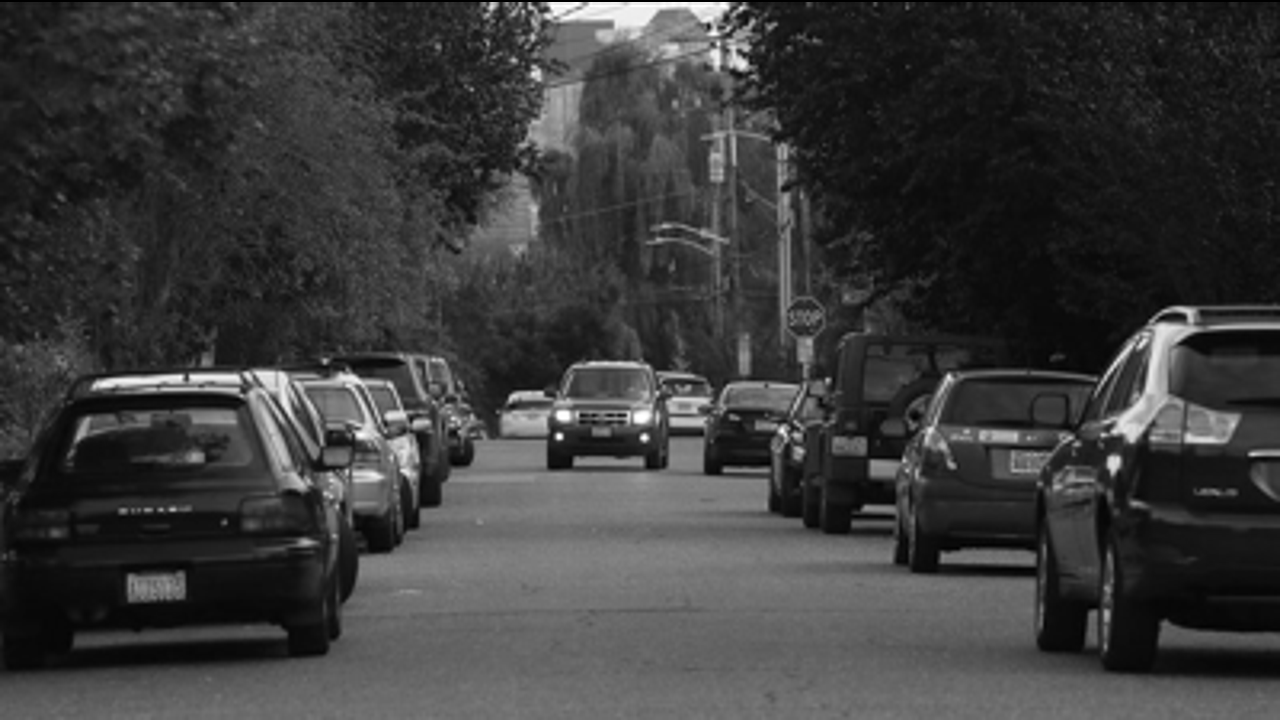license: (121, 569, 194, 606), (1009, 447, 1057, 475), (830, 432, 870, 458), (752, 415, 779, 434), (586, 423, 617, 439)
